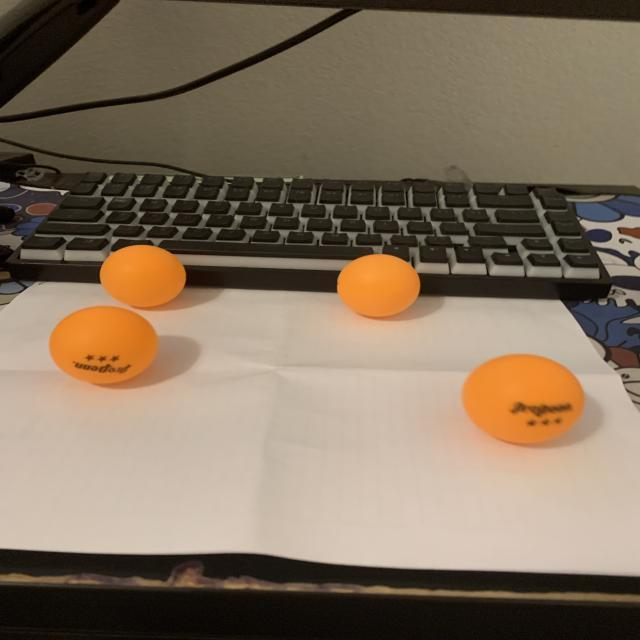ping-pong-ball: (453, 350, 590, 450), (44, 303, 166, 390), (334, 248, 426, 324), (97, 241, 194, 313)
